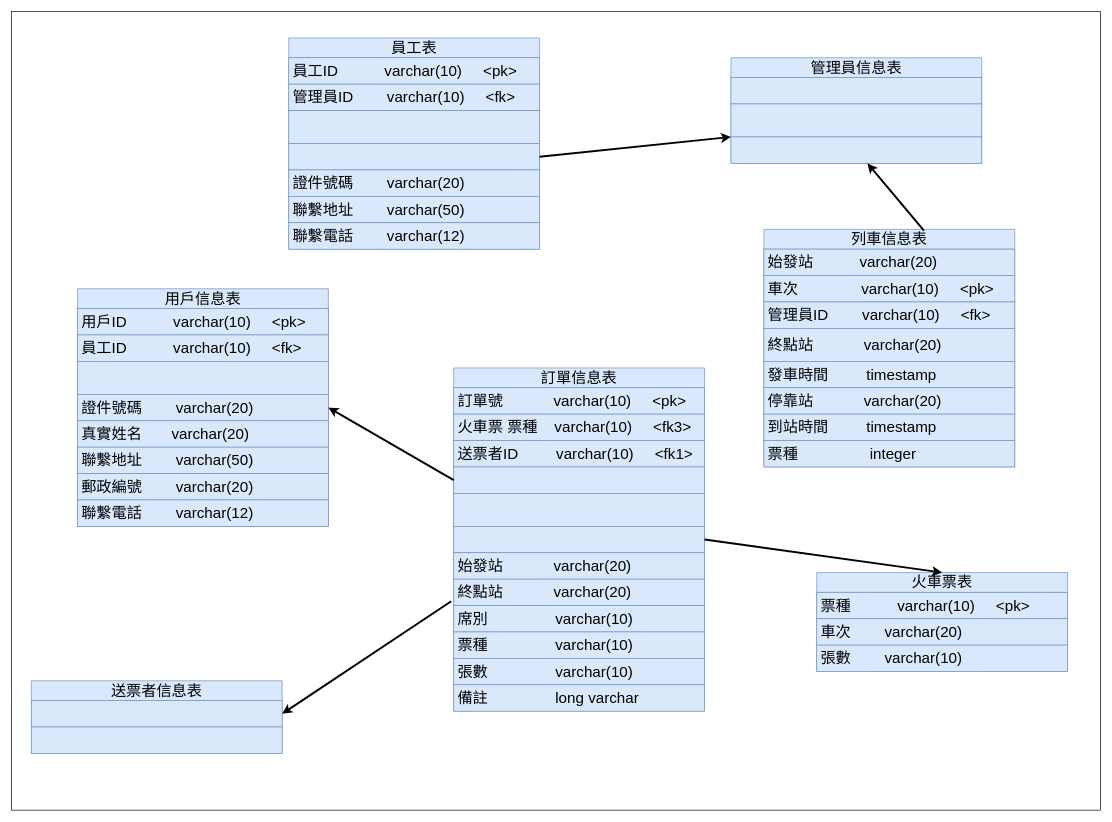
The diagram is 1112 pixels wide and 822 high, and some of its shapes have lost their labels. Here are the shapes that lost their labels. From the top down, the centre of each, then its label:
At (856,90): "管理員ID varchar(10) <pk>".
At (414,127): "員工姓名 varchar(20)".
At (856,120): "管理員姓名 varchar(20)".
At (414,156): "員工密碼 varchar(6)".
At (856,149): "管理員密碼 varchar(6)".
At (202,377): "用戶密碼 varchar(6)".
At (579,479): "用戶ID varchar(10) <fk2>".
At (579,509): "乘車日期 data".
At (579,539): "車次 varchar(10)".
At (156,713): "送票者ID varchar(10) <pk>".
At (156,739): "送票者姓名 varchar(20)".
